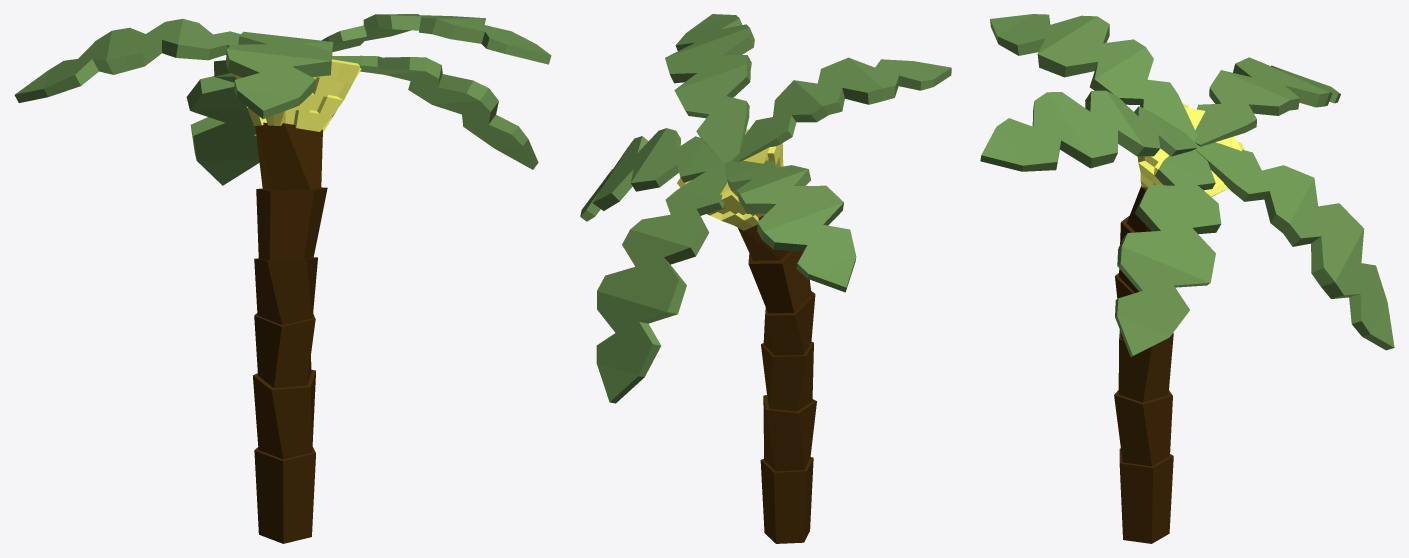
The model's file is palm.fbx.
3 views of the same model, side by side, from view 1: azimuth 30°, elevation 25°; view 2: azimuth 150°, elevation 25°; view 3: azimuth 270°, elevation 25° (orthographic). The views are drawn at different scales.
Parts seen in each view (by area): view 1: Tree 1; view 2: Tree 1; view 3: Tree 1.
Boxes of the visible parts, x1,y1,x2,y2 form: Tree 1: (14, 14, 551, 543); Tree 1: (580, 14, 951, 543); Tree 1: (980, 14, 1394, 543).
Size of the model in its own units: 515 by 624 by 483.
